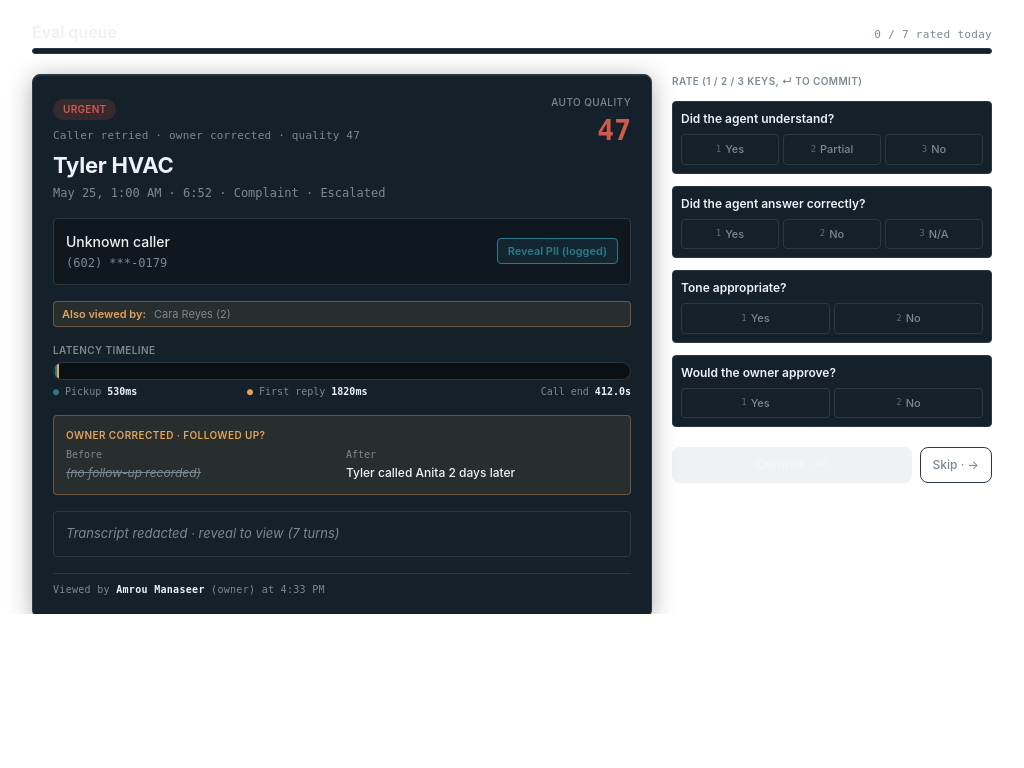
Test: OpsEvalQueuePreview › Rubric — answer all 4 questions then submit › commit button becomes enabled after all 4 questions answered
Click the button "1 Yes" below "Did the agent understand?" at (730, 149), box [681,134,779,164]
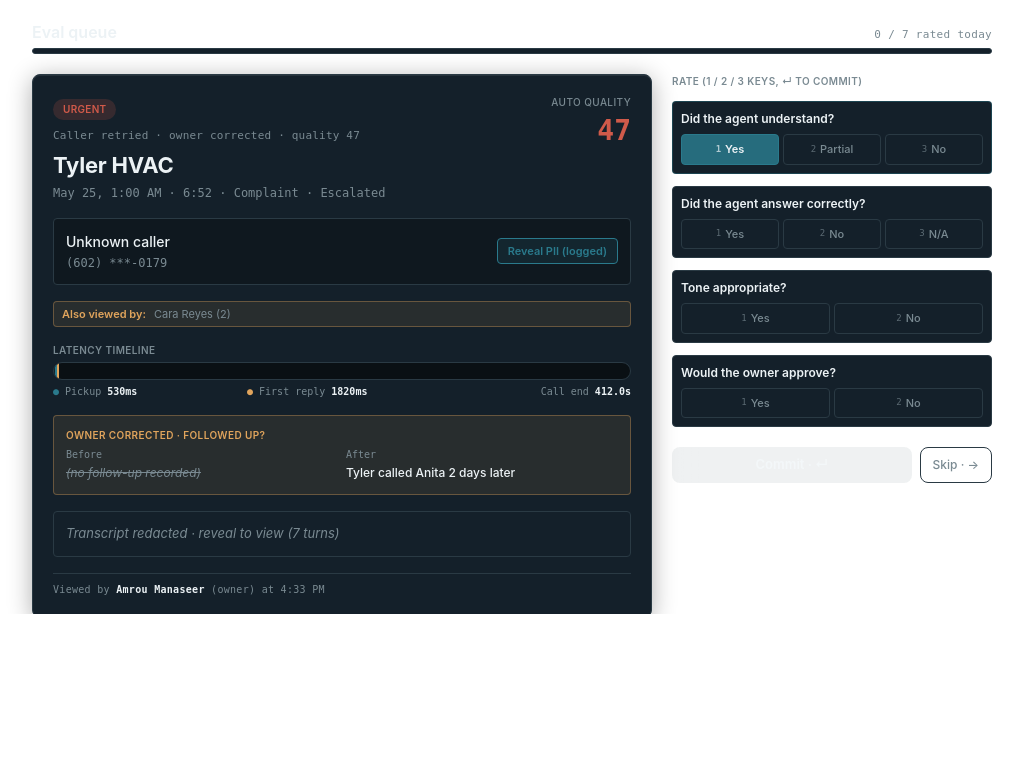
Click the button "1 Yes" below "Did the agent answer correctly?" at (730, 234), box [681,218,779,249]
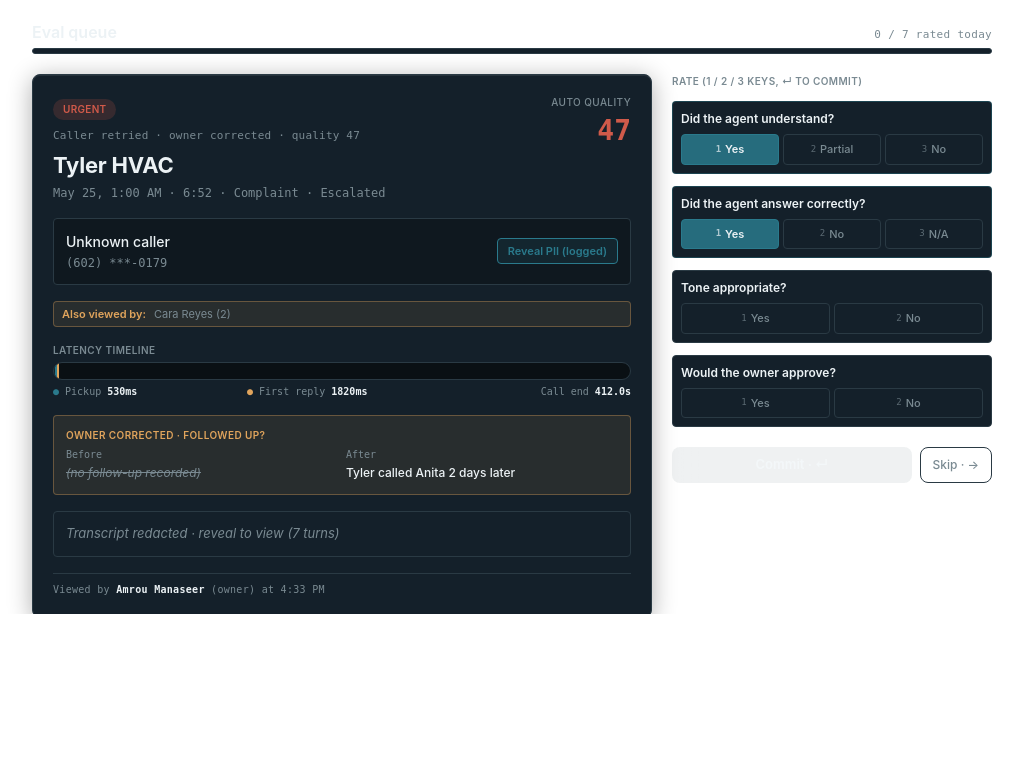
Click the button "1 Yes" below "Tone appropriate?" at (756, 318), box [681,303,830,334]
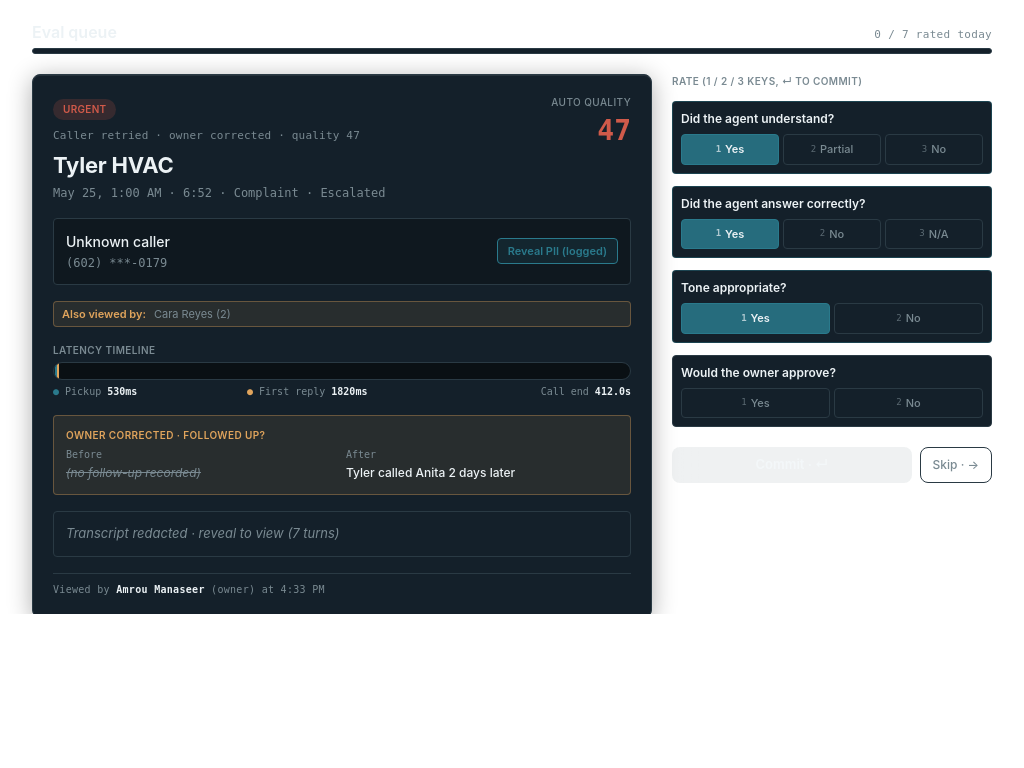
Click the button "1 Yes" below "Would the owner approve?" at (756, 403), box [681,388,830,418]
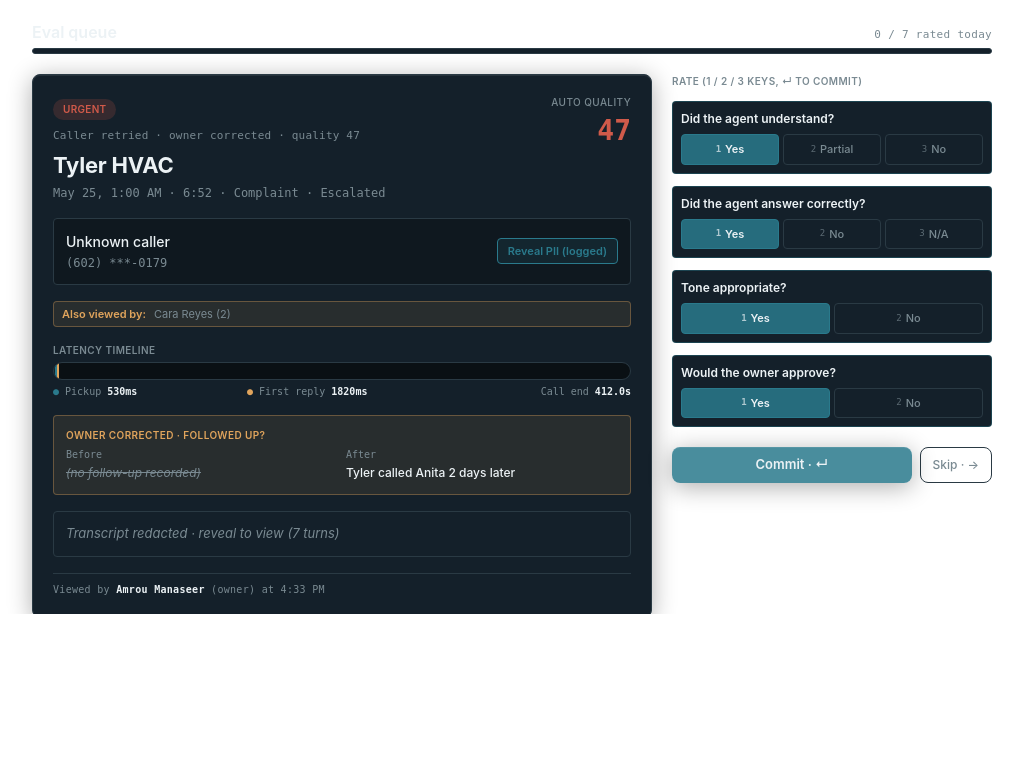
Result: the button "Commit · ↵" is enabled at [672,447,912,483]
